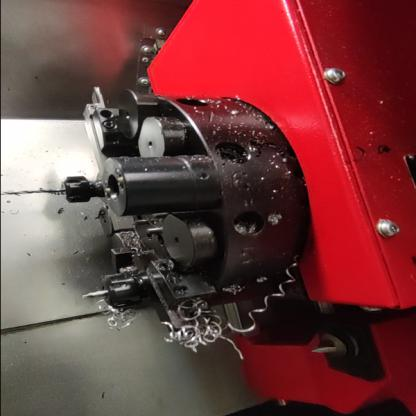bit: (80, 78, 142, 238), (130, 245, 227, 341)
